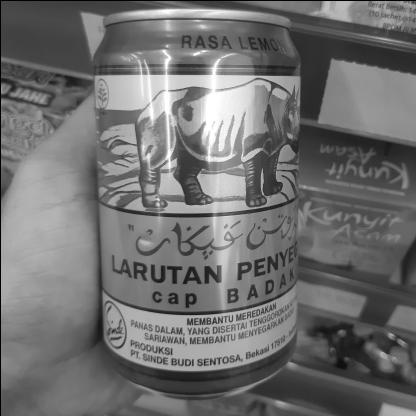alumunium_can: (57, 0, 320, 383)
